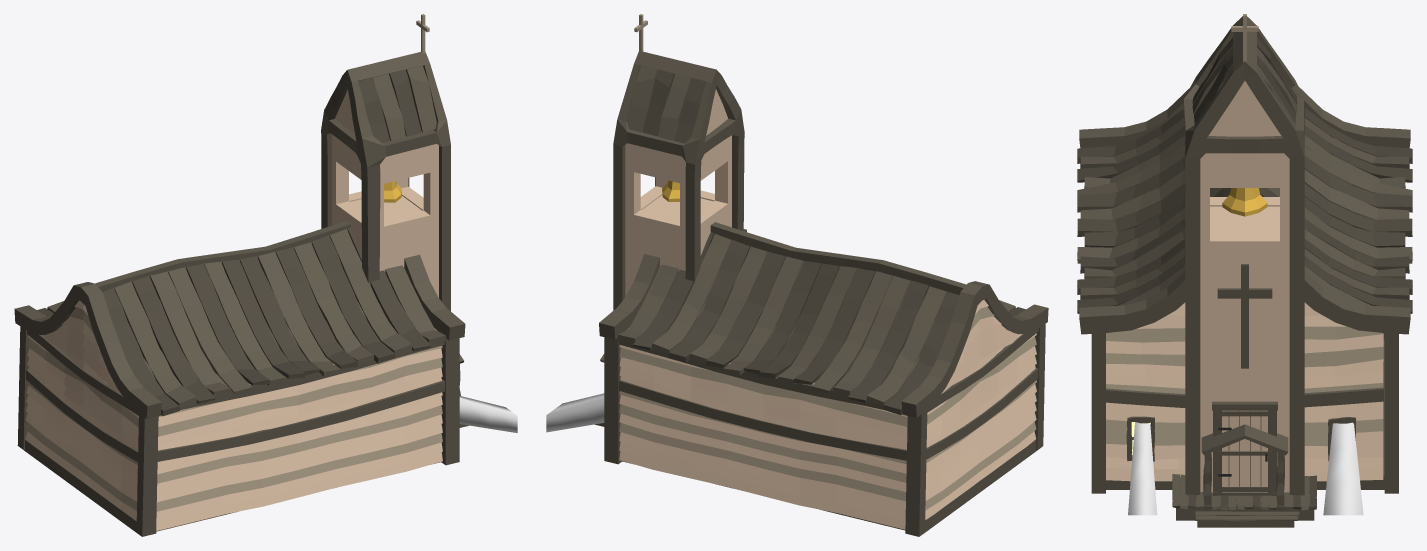
File: church_001.glb
3 views of the same model, side by side, from view 1: azimuth 30°, elevation 25°; view 2: azimuth 150°, elevation 25°; view 3: azimuth 270°, elevation 25° (orthographic). The views are drawn at different scales.
Visible parts, largest first — view 1: Cube.008, WindowLightShafts; view 2: Cube.008, WindowLightShafts; view 3: Cube.008, WindowLightShafts, DoorPanel, DoorFrame.
Part boxes in pixels (x1,y1,x2,y2): Cube.008: (14, 14, 468, 536); WindowLightShafts: (459, 396, 517, 432); Cube.008: (594, 14, 1048, 536); WindowLightShafts: (546, 393, 604, 432); Cube.008: (1077, 14, 1412, 527); WindowLightShafts: (1128, 422, 1363, 515); DoorPanel: (1218, 410, 1271, 492); DoorFrame: (1212, 401, 1277, 495).
Bounding box in the file's own units: 15.42 × 14.98 × 9.23.
